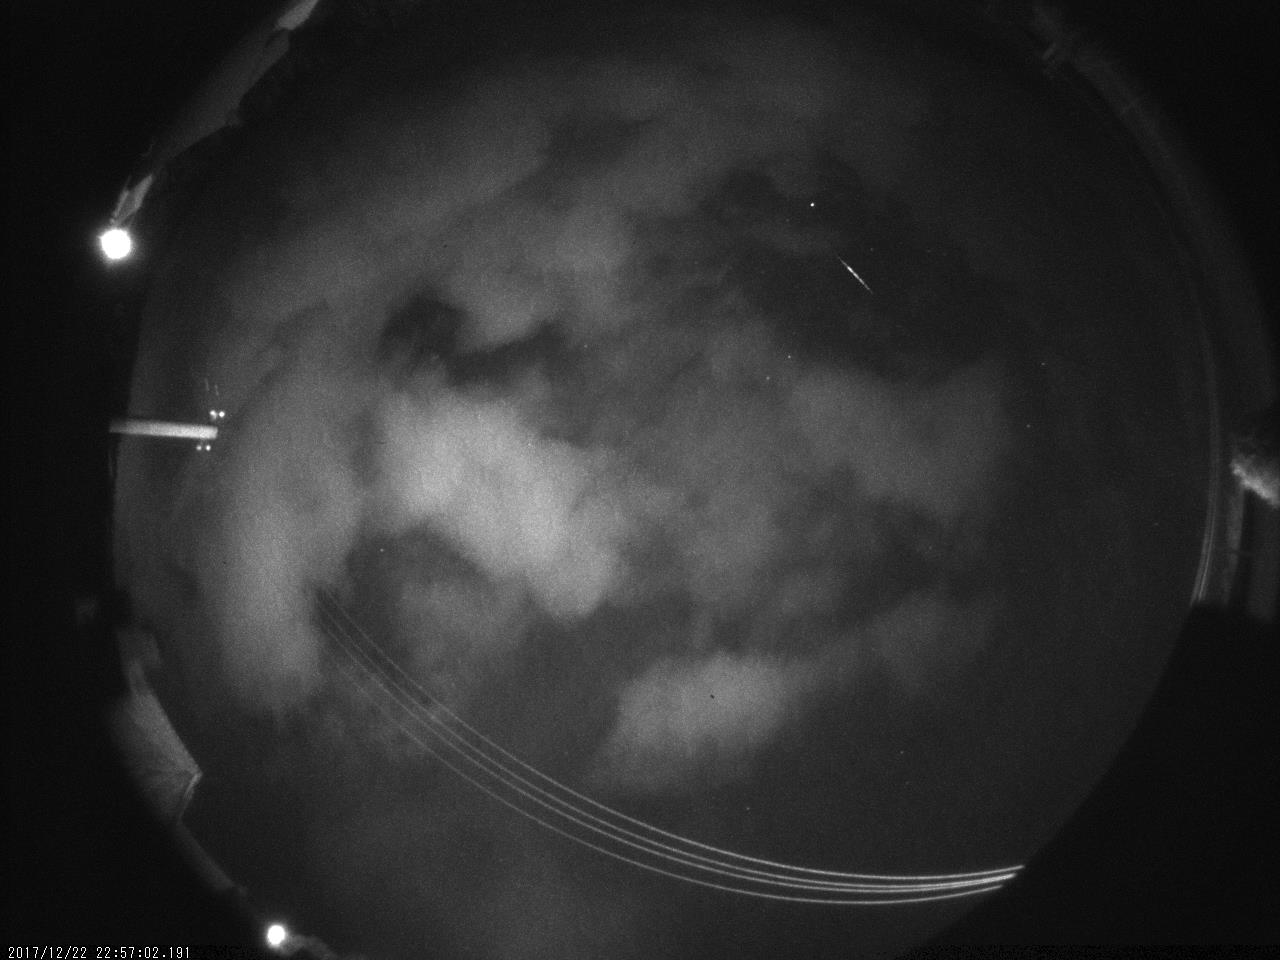meteor: (820, 240, 887, 304)
